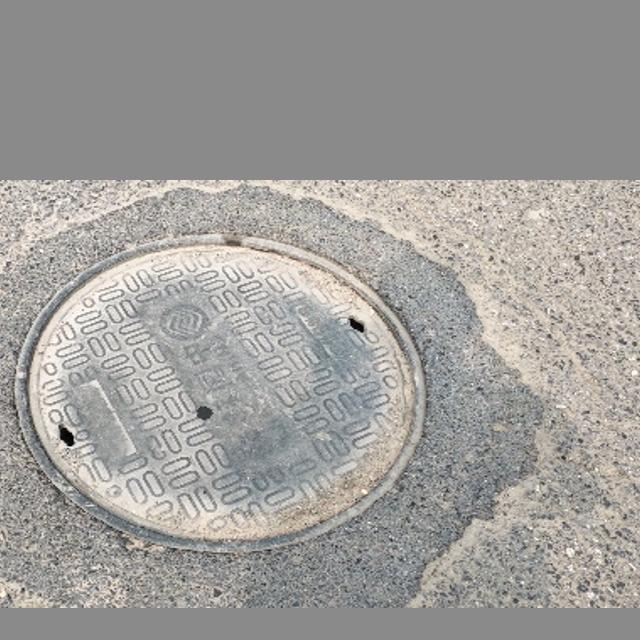good: (12, 247, 427, 549)
